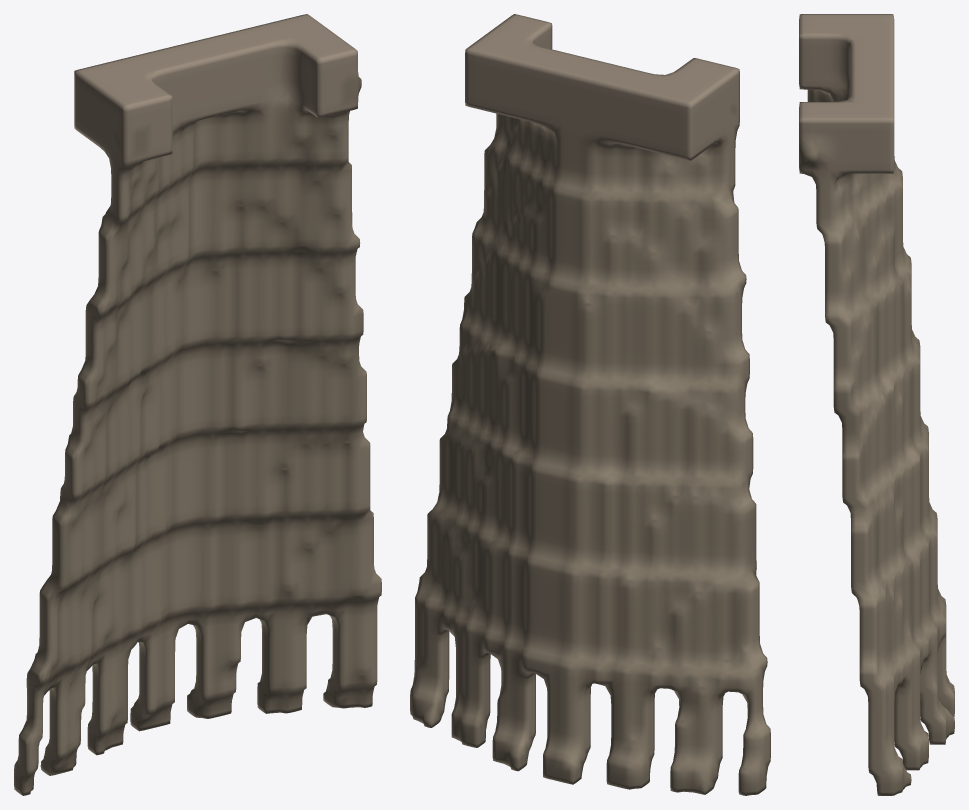
The model's file is plate_uncommon_cloak.glb.
The picture shows the model from 3 angles, left to right: view 1: azimuth 30°, elevation 25°; view 2: azimuth 150°, elevation 25°; view 3: azimuth 270°, elevation 25°; orthographic projection. The views are drawn at different scales.
Visible parts, largest first — view 1: plate_uncommon_cloak; view 2: plate_uncommon_cloak; view 3: plate_uncommon_cloak.
Part boxes in pixels (x1,y1,x2,y2): plate_uncommon_cloak: (14, 14, 381, 795); plate_uncommon_cloak: (410, 14, 770, 795); plate_uncommon_cloak: (799, 14, 954, 795).
Size of the model in its own units: 0.528 by 0.996 by 0.216.
